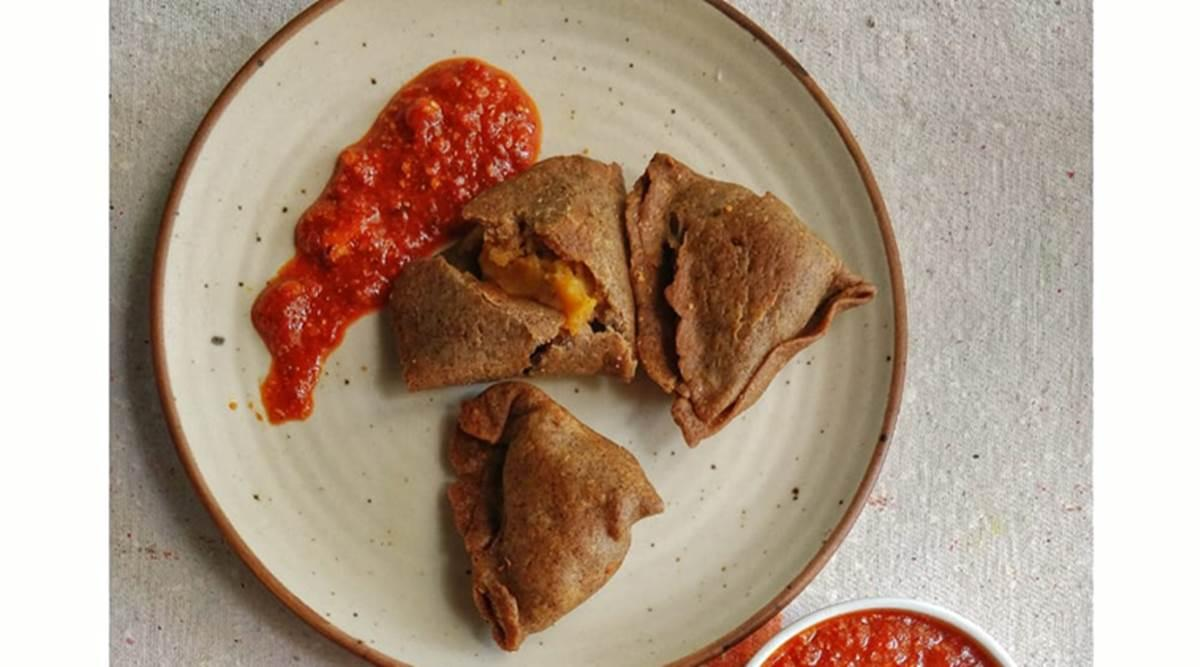samosa: (626, 155, 874, 445), (389, 155, 638, 389), (448, 382, 663, 650)
